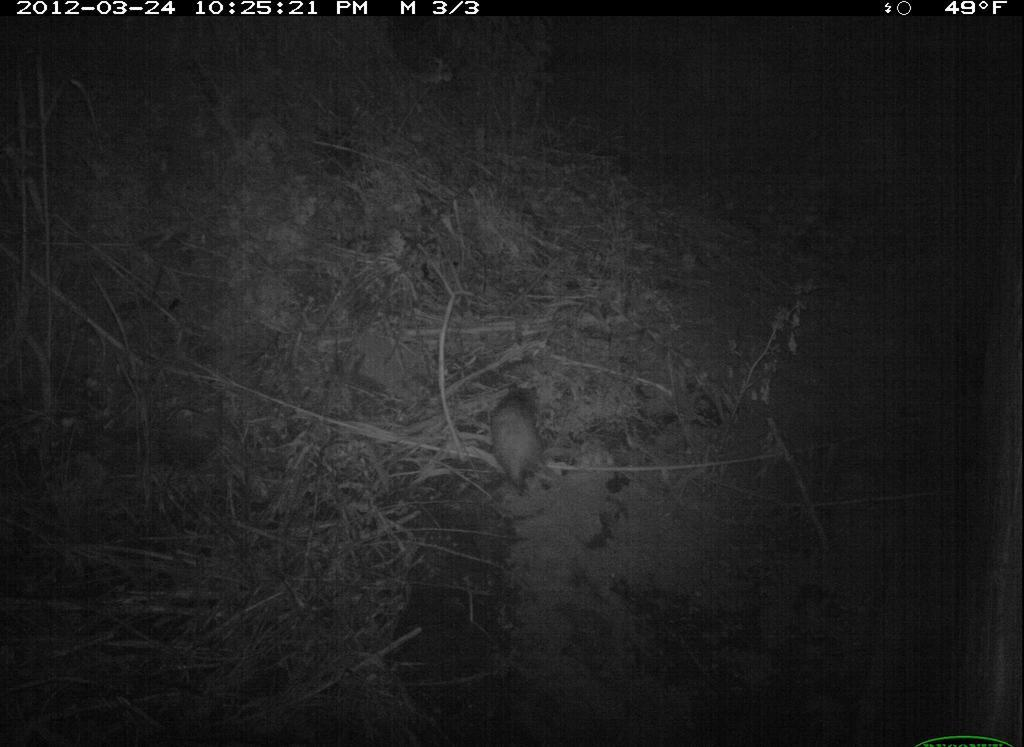opossum: (474, 377, 564, 501)
